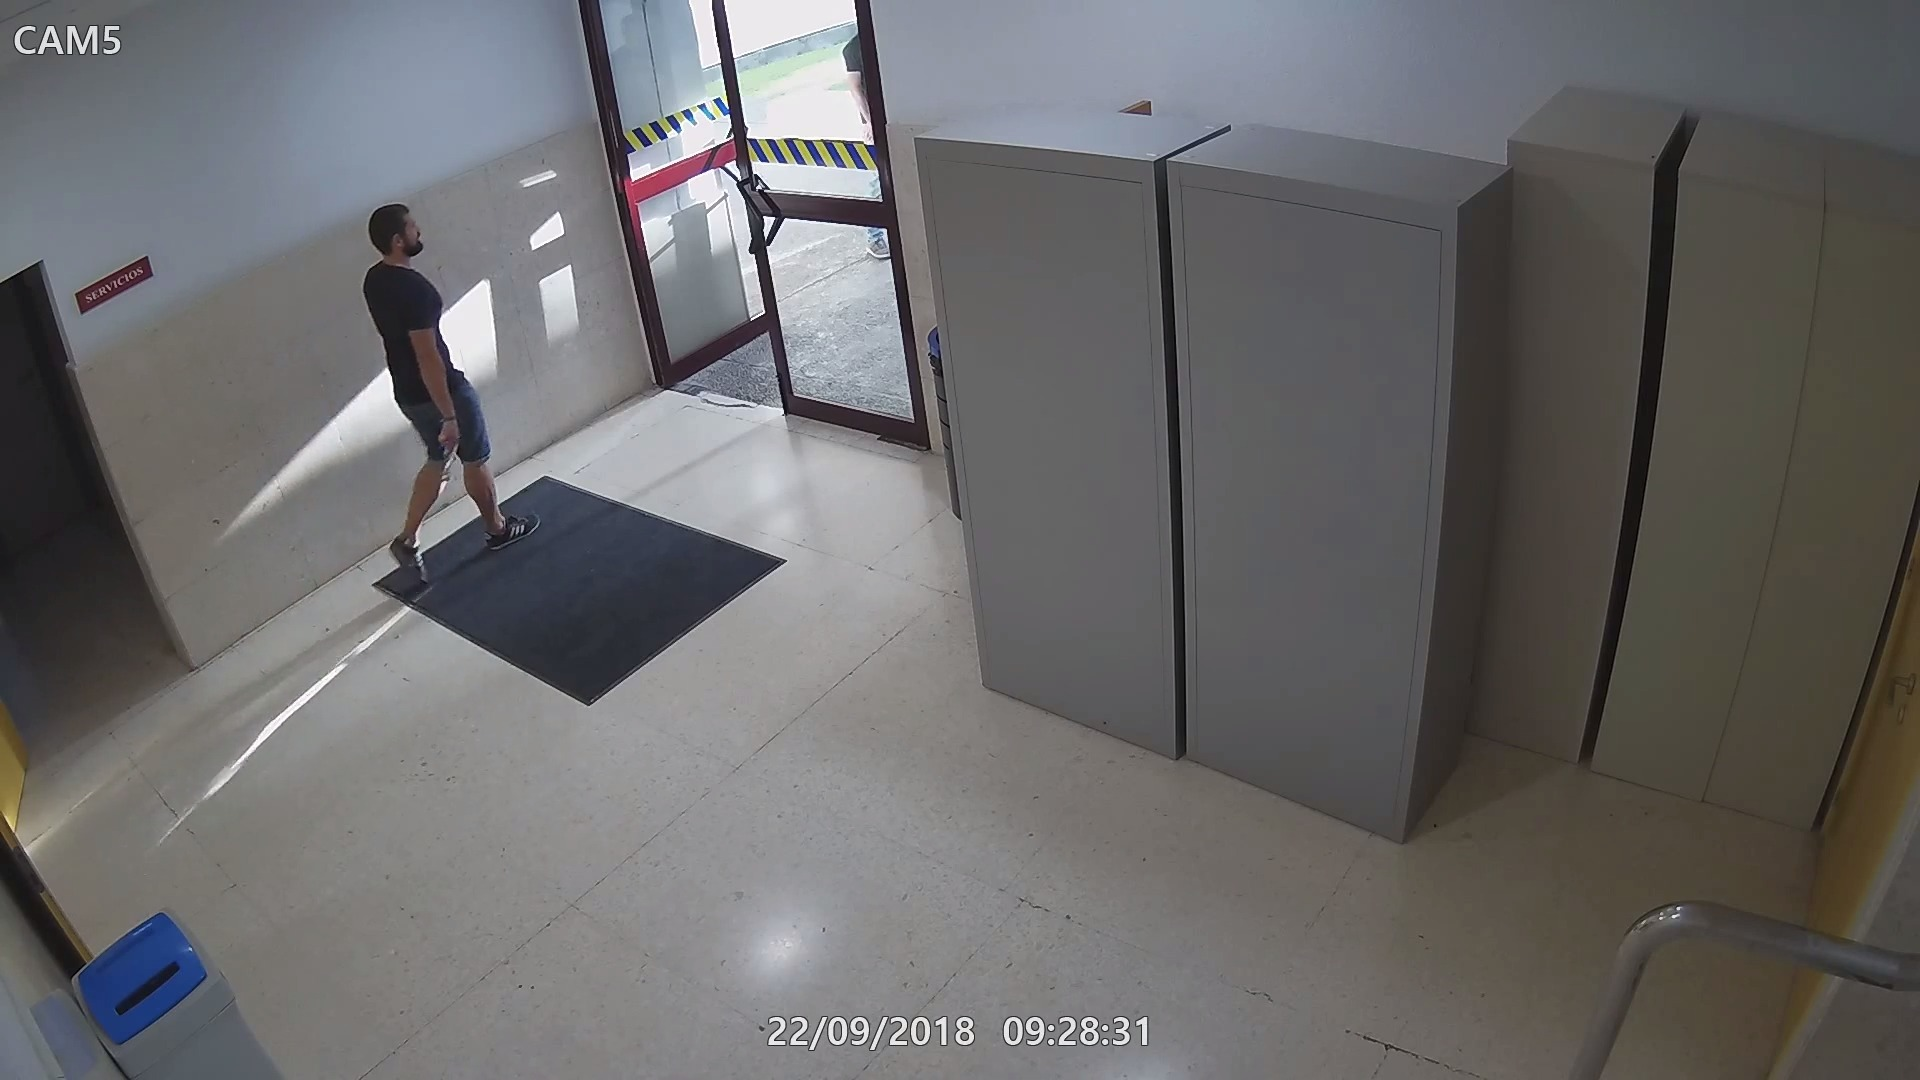Handgun: (433, 409, 464, 491)
